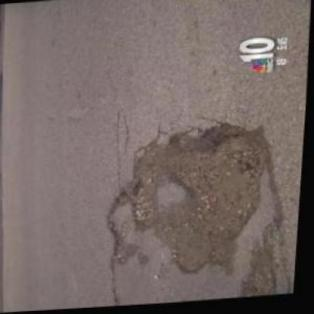Hueco: (105, 124, 273, 286)
